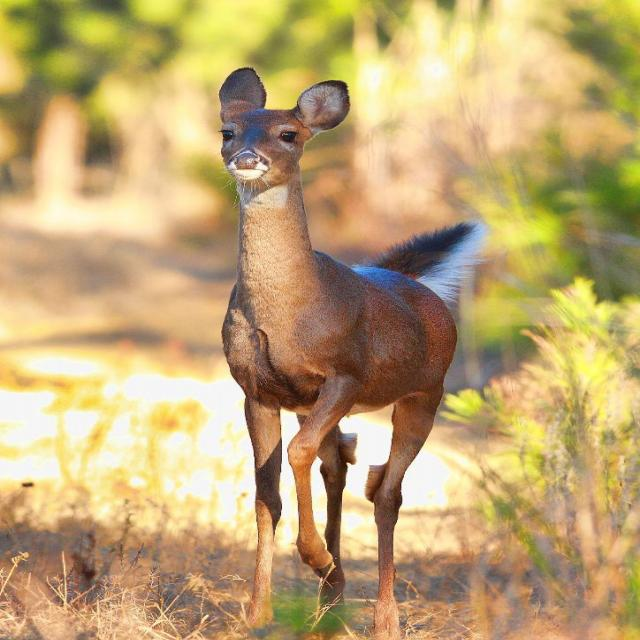Deer: (219, 68, 485, 640)
